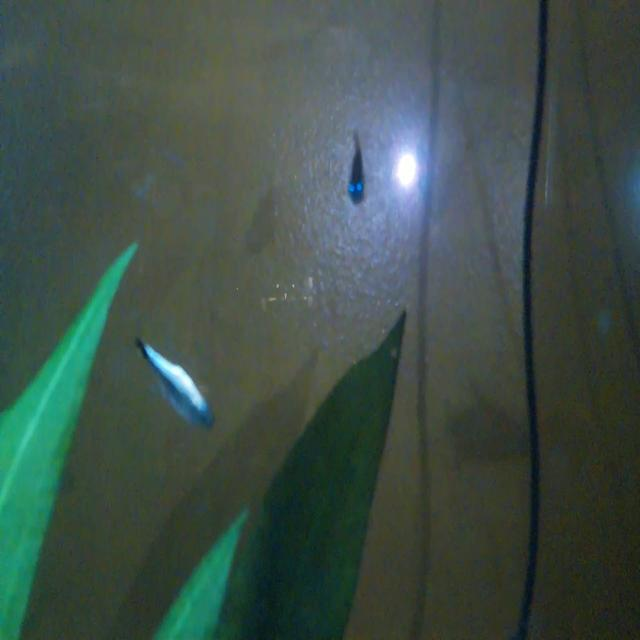fish: (127, 325, 219, 434), (336, 124, 373, 210)
